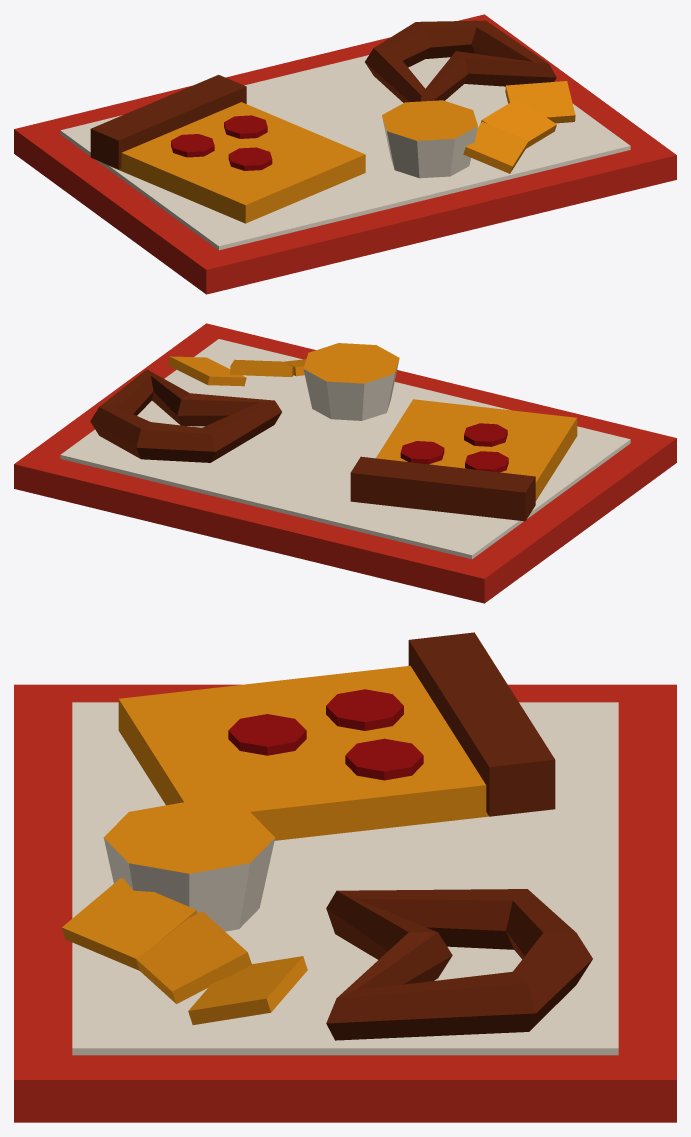
Rendered from cozy_bowling_nachos_pizza_tray.obj.
3 views of the same model, one above another, from view 1: azimuth 30°, elevation 25°; view 2: azimuth 150°, elevation 25°; view 3: azimuth 270°, elevation 25° (orthographic). The views are drawn at different scales.
Parts seen in each view (by area): view 1: SnackTray_Mesh; view 2: SnackTray_Mesh; view 3: SnackTray_Mesh.
Part boxes in pixels (x1,y1,x2,y2): SnackTray_Mesh: [14, 14, 676, 294]; SnackTray_Mesh: [14, 323, 676, 603]; SnackTray_Mesh: [14, 632, 676, 1122].
Bounding box in the file's own units: 0.48 × 0.068 × 0.34.
